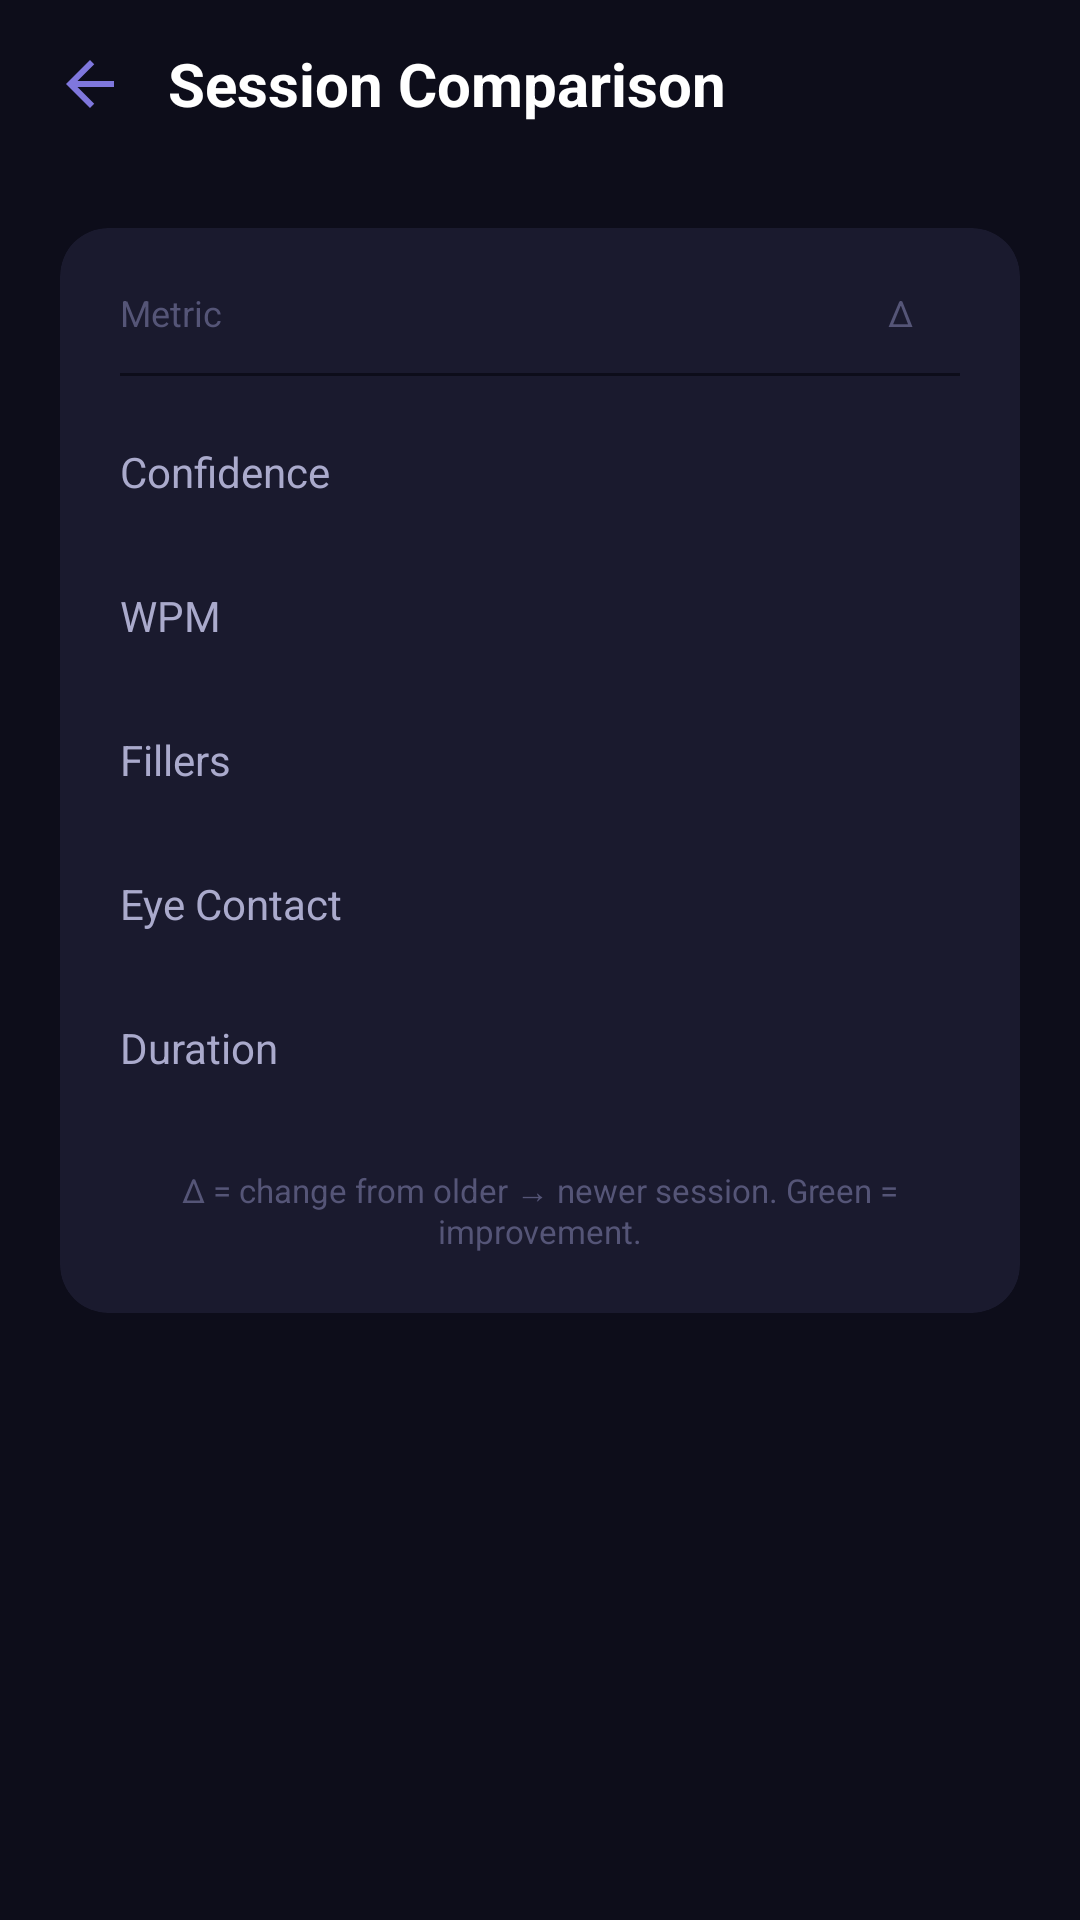

Point at icon controls on the screen. Image size 1080*1920, points as (x,y).
Back: (90,84)
